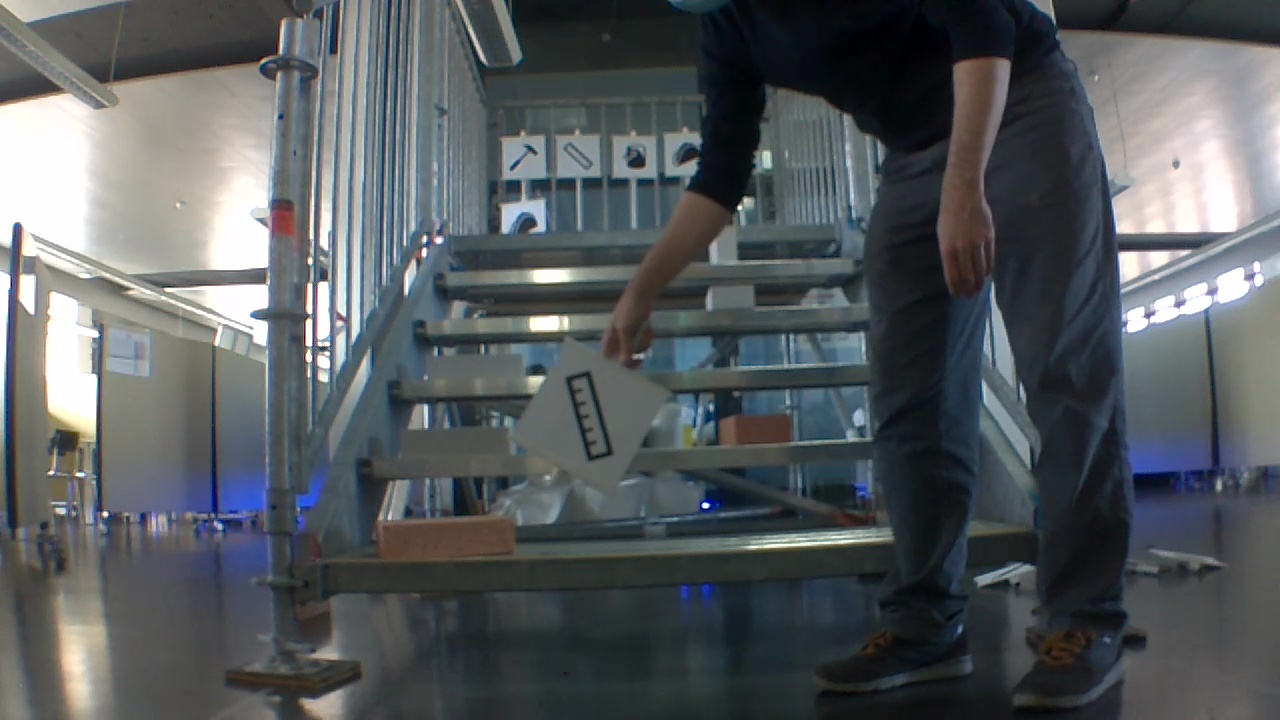brick: (377, 515, 514, 556), (388, 426, 519, 452), (426, 354, 522, 380), (727, 412, 792, 437), (707, 283, 753, 309), (717, 226, 734, 263)
bucket: (622, 143, 654, 173)
hammer: (507, 143, 539, 174)
ruler: (559, 365, 628, 466), (561, 140, 598, 169)
taco: (670, 139, 700, 164), (505, 210, 538, 230)
